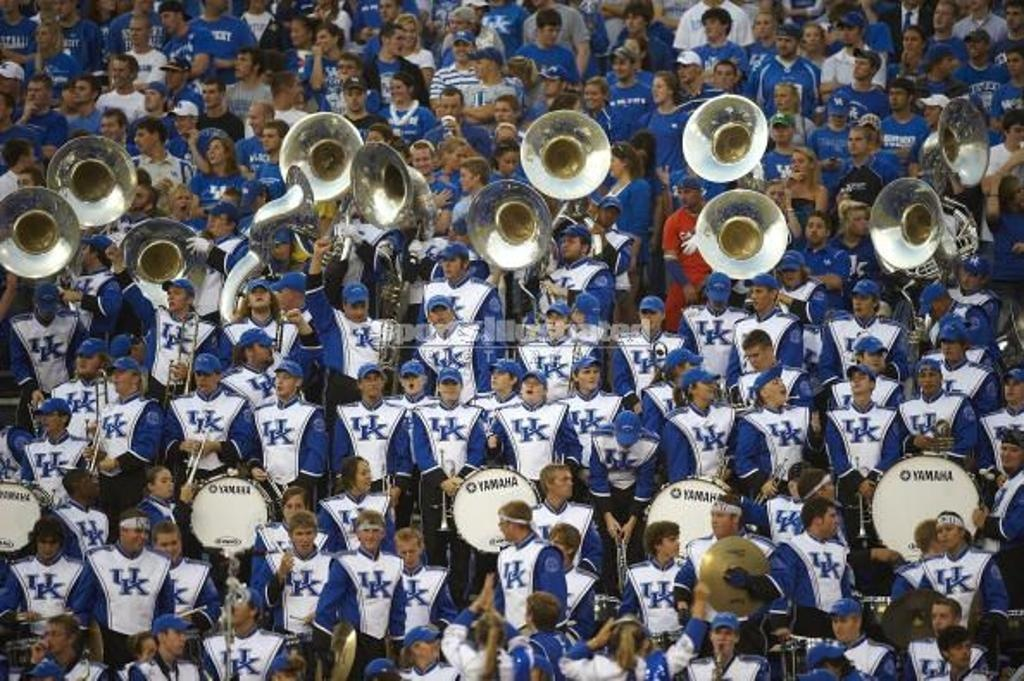human_face: (161, 625, 187, 655), (931, 604, 953, 636), (156, 533, 180, 561), (126, 520, 148, 550), (948, 637, 970, 667), (226, 594, 248, 623), (46, 623, 68, 652), (520, 374, 544, 400), (1000, 442, 1024, 468), (152, 470, 174, 498), (710, 508, 732, 536), (832, 612, 854, 640), (764, 377, 786, 405), (852, 289, 874, 317), (414, 636, 438, 660), (1004, 178, 1022, 210), (396, 539, 418, 565), (712, 628, 734, 654), (550, 470, 572, 496), (940, 334, 962, 360), (846, 209, 868, 235), (294, 524, 314, 552), (282, 78, 302, 106), (818, 508, 838, 536), (578, 363, 600, 388), (174, 187, 192, 217), (548, 534, 566, 564), (75, 351, 99, 373), (36, 534, 60, 556), (360, 524, 382, 548), (358, 372, 380, 396), (410, 151, 432, 175), (712, 66, 734, 90), (428, 304, 450, 328), (917, 368, 939, 392), (249, 336, 269, 362), (364, 132, 384, 158), (440, 95, 460, 121), (791, 153, 811, 179), (347, 296, 367, 322), (275, 282, 295, 308), (750, 284, 770, 310), (804, 216, 824, 242), (766, 184, 786, 210), (572, 308, 598, 328), (353, 463, 371, 491), (582, 84, 602, 109), (932, 3, 952, 28), (490, 363, 510, 388), (76, 474, 98, 496), (937, 525, 959, 547), (692, 378, 714, 400), (112, 368, 132, 392), (275, 371, 295, 395), (284, 498, 304, 522), (345, 87, 365, 111), (540, 20, 560, 44), (650, 78, 670, 102), (938, 53, 958, 77), (847, 130, 867, 154), (545, 311, 565, 335), (640, 306, 660, 330), (439, 377, 459, 401), (658, 532, 678, 556), (849, 369, 869, 393), (28, 82, 46, 108), (248, 109, 266, 135), (498, 514, 516, 540), (746, 344, 764, 370), (1004, 374, 1022, 400), (140, 638, 158, 664), (167, 288, 187, 311), (775, 32, 795, 55), (774, 87, 794, 110), (442, 254, 462, 277), (100, 119, 120, 141), (128, 186, 148, 208), (194, 368, 214, 390), (401, 373, 423, 393), (336, 62, 356, 84), (452, 39, 472, 61), (612, 57, 632, 79), (754, 14, 774, 36), (498, 151, 518, 173), (840, 22, 860, 44), (781, 263, 801, 285), (269, 238, 289, 260), (111, 60, 129, 84), (16, 173, 34, 197), (386, 30, 404, 54), (449, 145, 467, 169), (494, 102, 512, 126), (678, 59, 696, 83), (802, 28, 820, 52), (606, 152, 624, 176), (563, 234, 581, 258), (862, 346, 880, 370), (449, 15, 469, 36), (676, 186, 696, 207), (234, 52, 250, 78), (206, 141, 224, 164), (772, 119, 790, 142), (902, 32, 920, 55), (1006, 7, 1024, 30), (72, 82, 92, 102), (461, 166, 477, 191), (852, 58, 872, 78), (201, 84, 219, 106), (134, 128, 152, 150), (37, 300, 55, 322), (389, 81, 407, 103), (398, 25, 416, 47), (960, 268, 978, 290), (291, 21, 307, 45), (624, 41, 640, 65), (818, 479, 834, 503), (207, 213, 225, 233), (249, 288, 269, 306), (42, 410, 60, 430), (379, 1, 397, 21), (544, 74, 562, 94), (626, 12, 644, 32), (702, 18, 722, 36), (600, 205, 618, 225), (166, 66, 182, 88), (160, 12, 176, 34), (174, 113, 190, 135), (262, 128, 278, 150), (316, 30, 332, 52), (679, 358, 695, 380), (966, 39, 984, 58), (1007, 55, 1023, 76), (928, 300, 942, 324), (55, 0, 73, 18), (709, 288, 727, 306), (145, 90, 161, 110), (474, 58, 490, 78), (889, 89, 905, 109), (270, 668, 296, 680), (130, 22, 144, 44), (1009, 124, 1023, 146), (924, 102, 938, 124), (0, 73, 14, 93), (20, 148, 34, 168), (80, 244, 94, 264), (37, 27, 51, 46), (830, 108, 846, 124), (206, 0, 228, 11), (0, 0, 18, 12), (0, 94, 8, 120), (98, 0, 116, 10)
